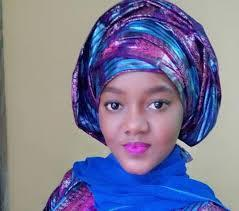No Mask: (82, 34, 198, 195)
